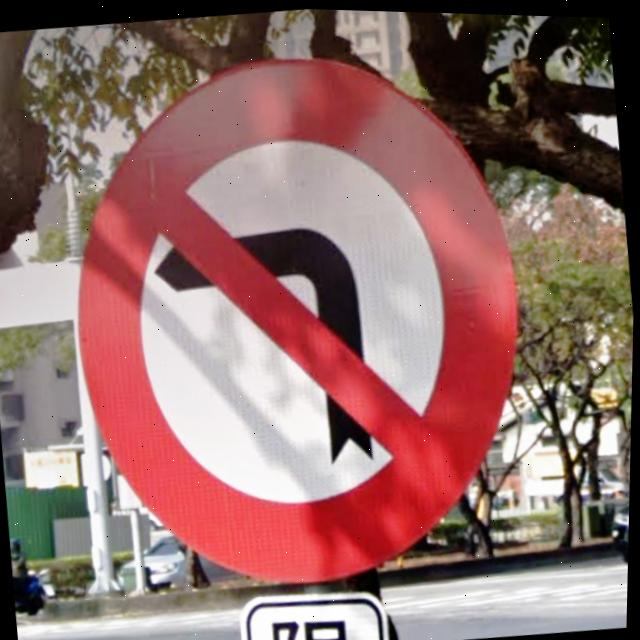noturnleft: (77, 57, 521, 584)
